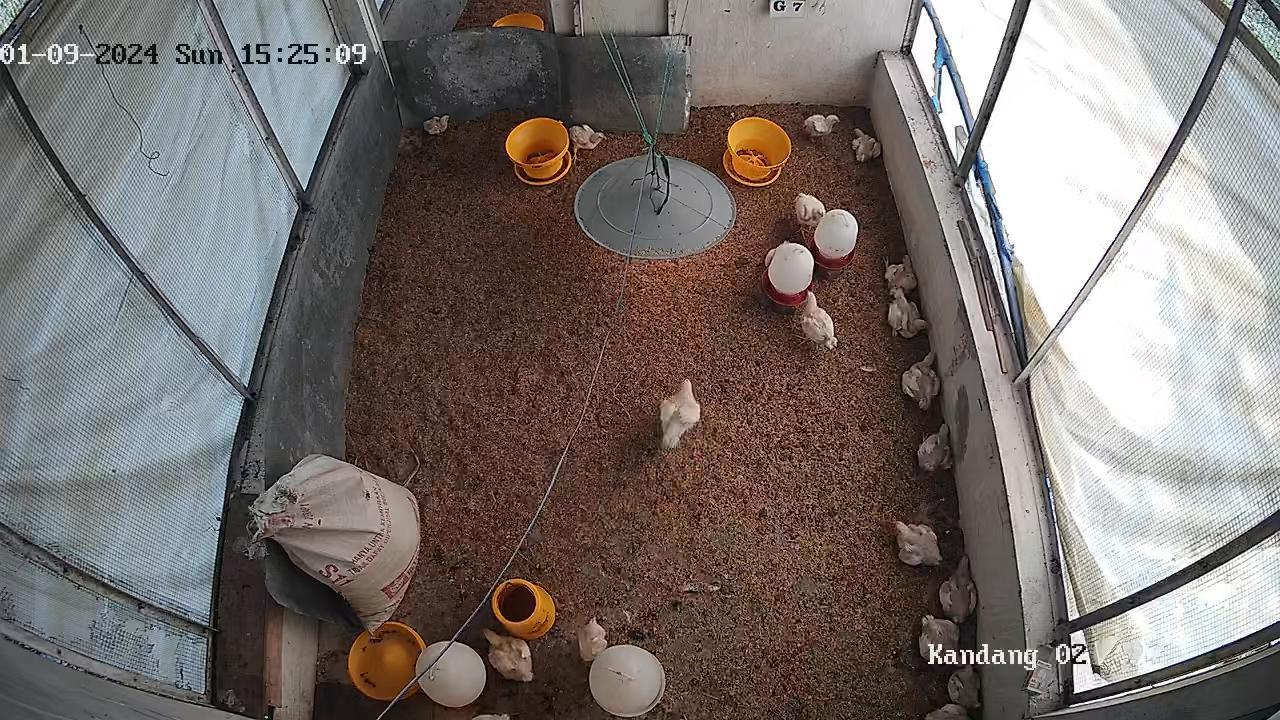chicken: (657, 377, 702, 452), (480, 628, 534, 684), (940, 554, 978, 625), (918, 612, 968, 665), (798, 288, 839, 351), (887, 521, 943, 567), (900, 350, 941, 412), (887, 286, 929, 340), (917, 420, 953, 473), (574, 615, 609, 663), (950, 661, 982, 711), (883, 253, 919, 296), (793, 191, 827, 228), (851, 127, 882, 163), (568, 123, 608, 150), (802, 113, 841, 139), (923, 702, 969, 720), (422, 114, 451, 136)
